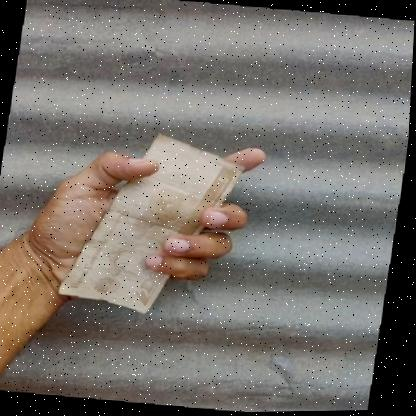five-back-vef: (59, 127, 250, 321)
